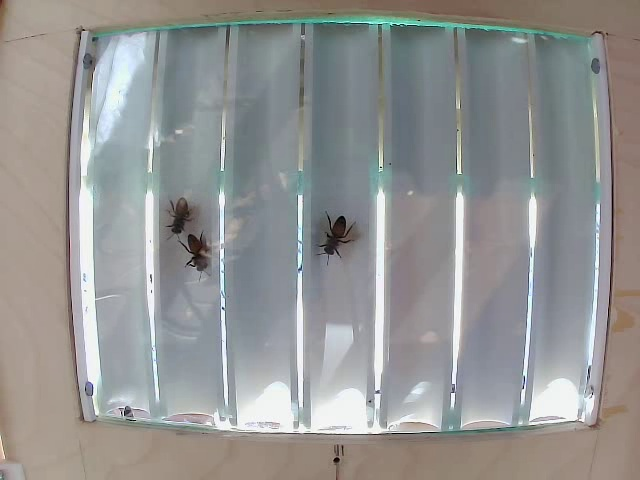bee: (310, 202, 344, 265), (179, 240, 211, 275), (164, 193, 189, 220)
